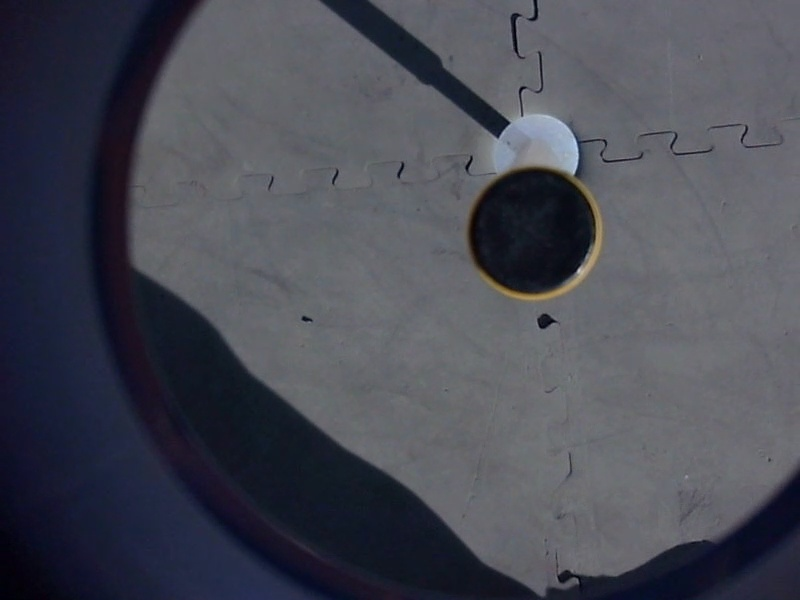tip: (462, 164, 609, 307)
